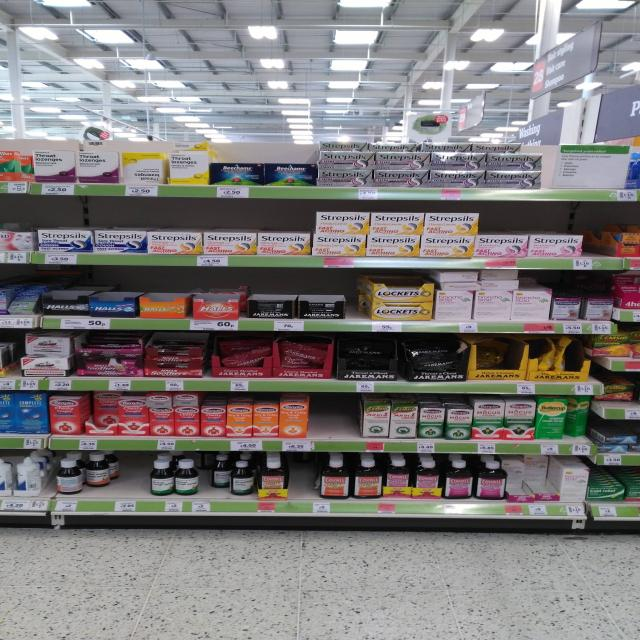void: (117, 452, 144, 511), (293, 455, 317, 512), (312, 398, 337, 452), (583, 211, 606, 268), (342, 395, 361, 451)
